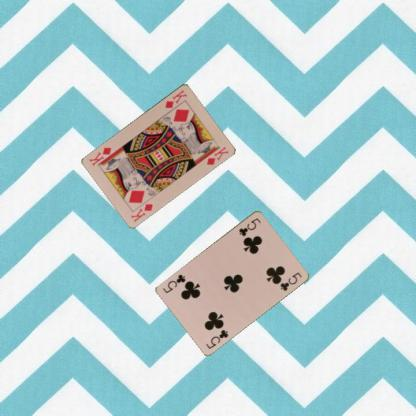5c: (204, 327, 230, 350), (236, 215, 262, 237)
Kd: (162, 87, 188, 109), (128, 201, 154, 223)
